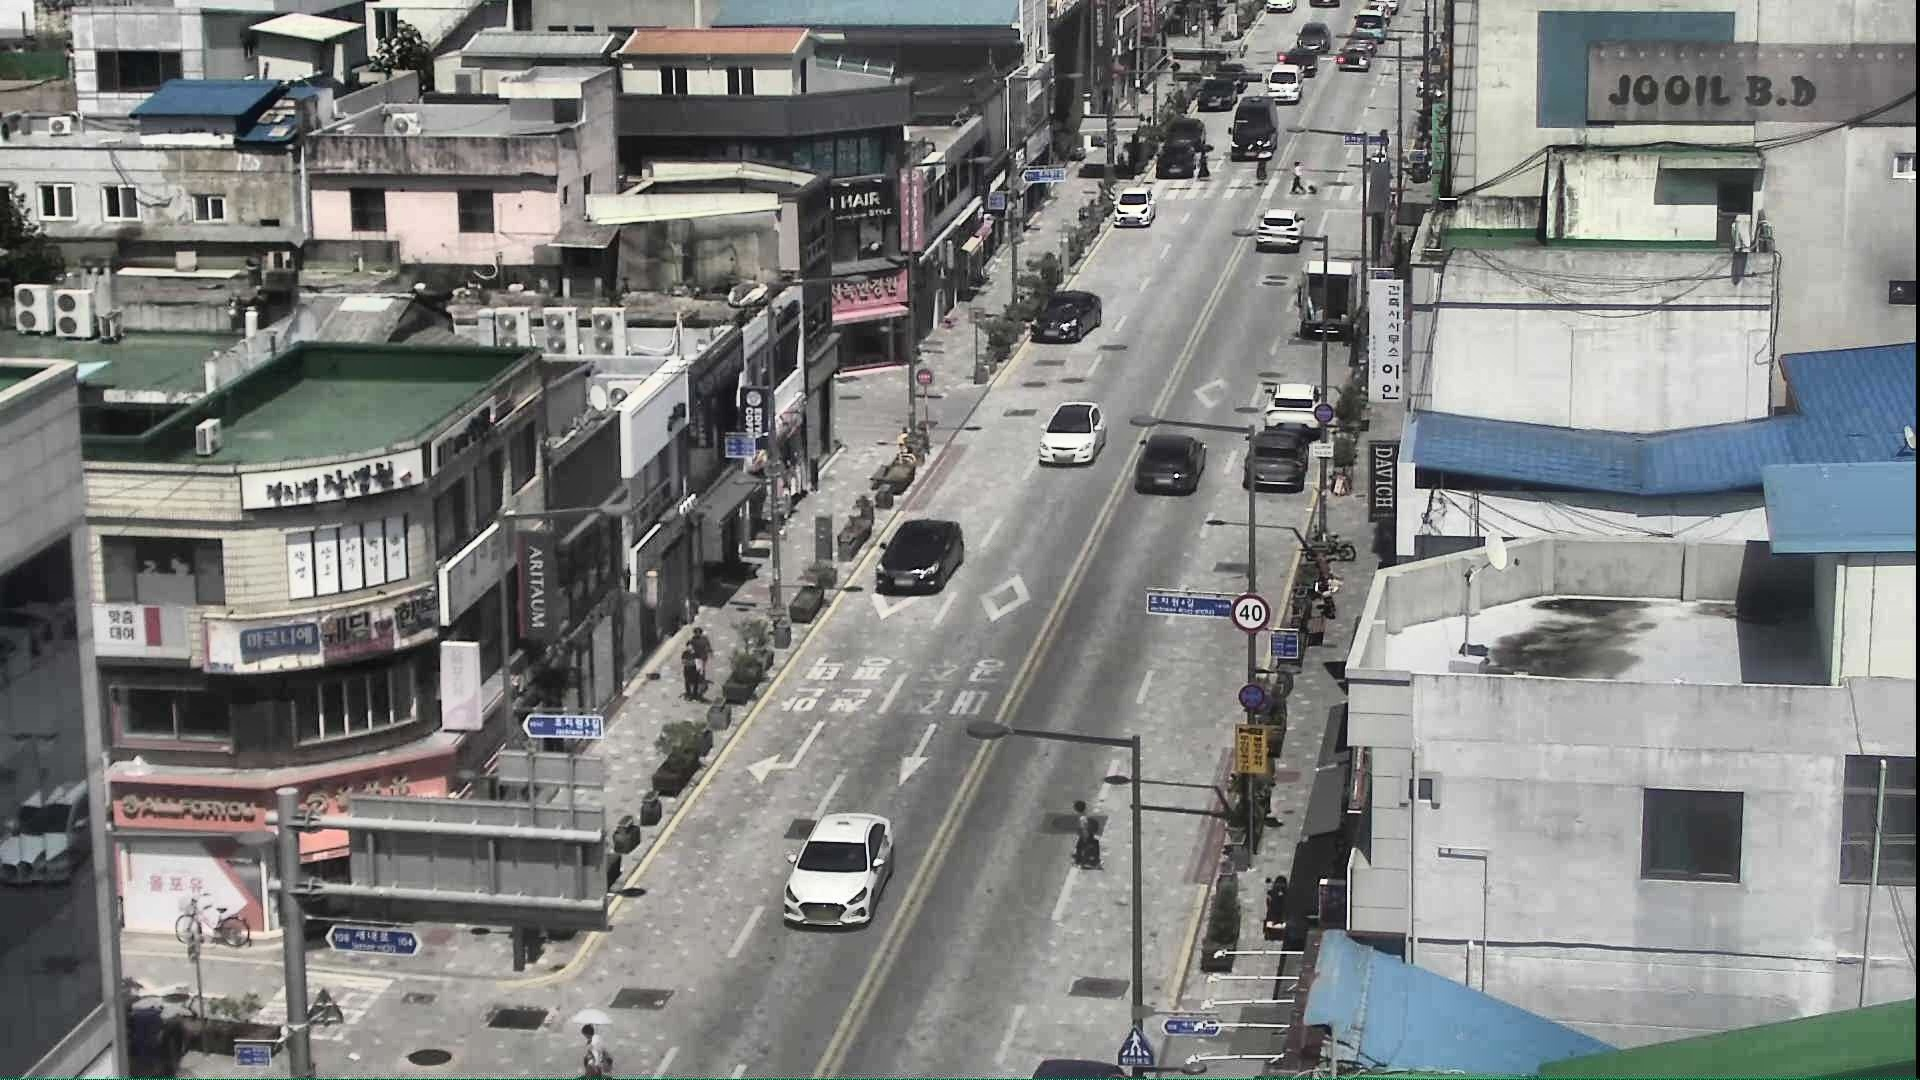crosswalk: (1291, 160, 1307, 193)
jaywalk: (1065, 793, 1102, 866)
sidewalk: (678, 644, 702, 698), (694, 626, 713, 686)
um_crosswalk: (1195, 145, 1215, 179), (1255, 153, 1273, 185)
um_jaywalk: (564, 998, 611, 1077)
